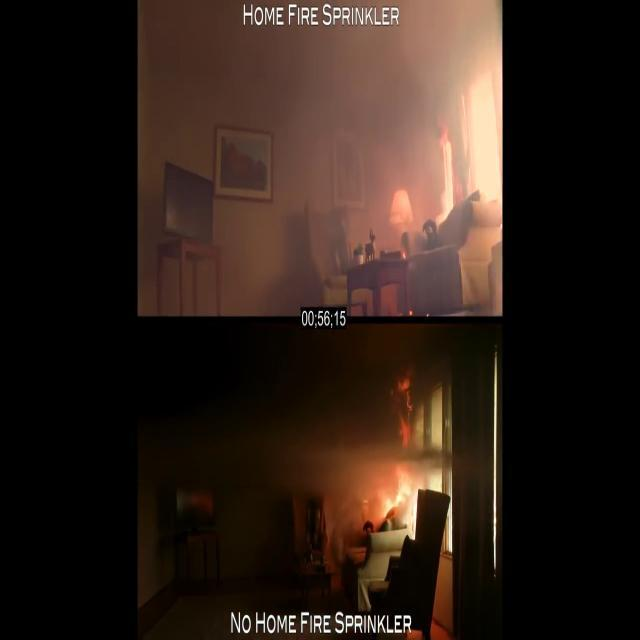Fire: (466, 64, 502, 210), (370, 468, 424, 535), (438, 129, 456, 225)
